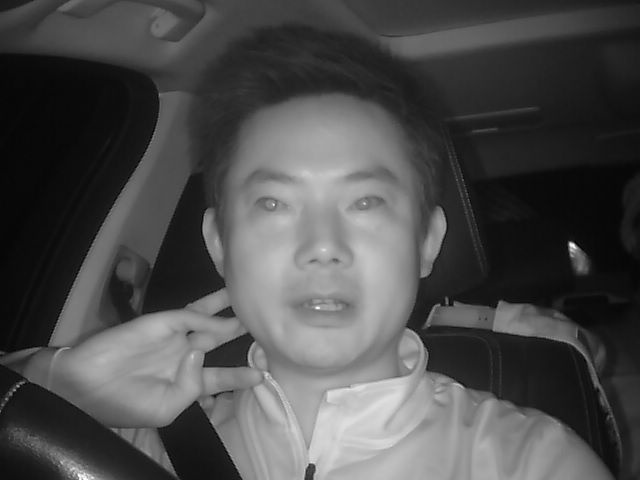hand: (94, 288, 264, 423)
